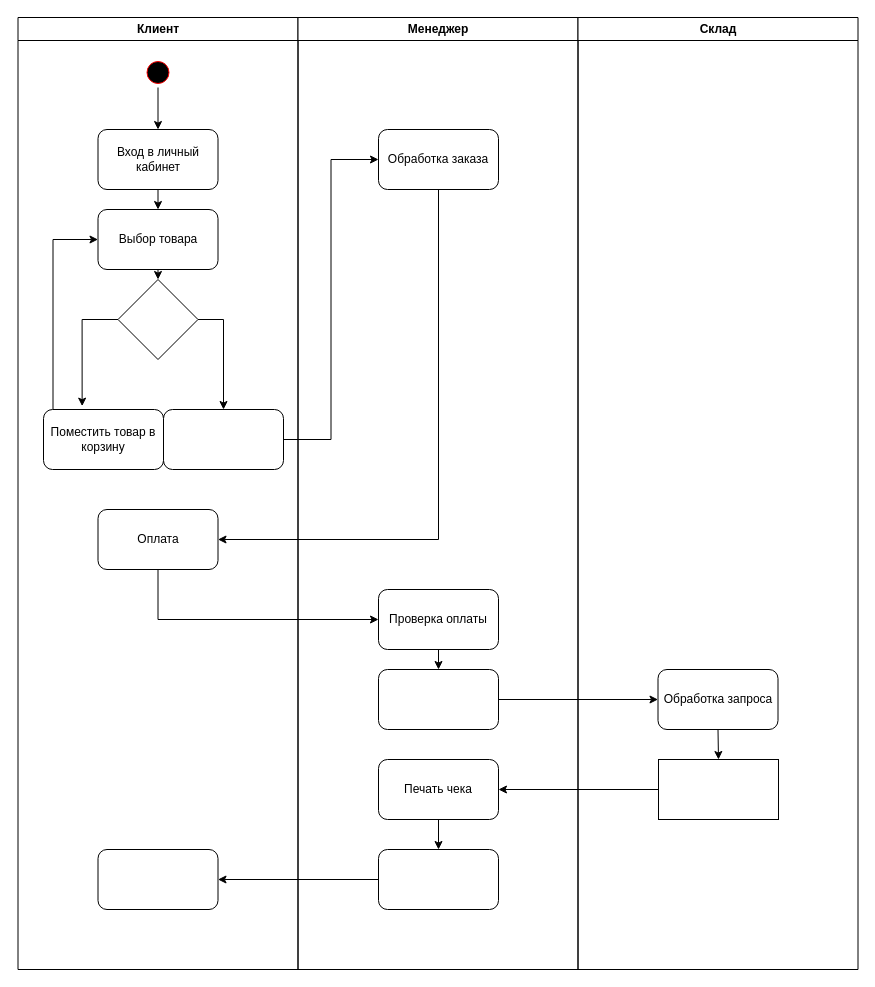
This 875x987 diagram has some shape labels left out. The shapes that lost their labels are listed below. From the top down, each one's centre as x and y in pixels, then its label:
At (223,439): "Заказать товар".
At (438,699): "Запрос на товар".
At (718,789): "Готовый товар".
At (157,879): "Получение товара".
At (438,879): "Доставка товара".
